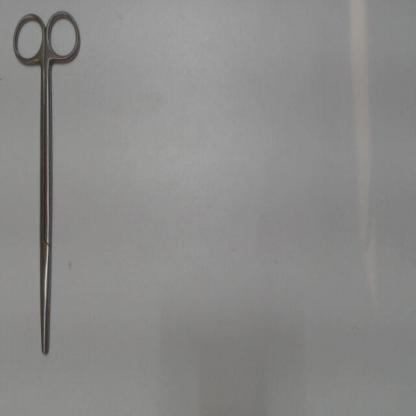9 Metzenbaum Scissors: (10, 7, 86, 361)
